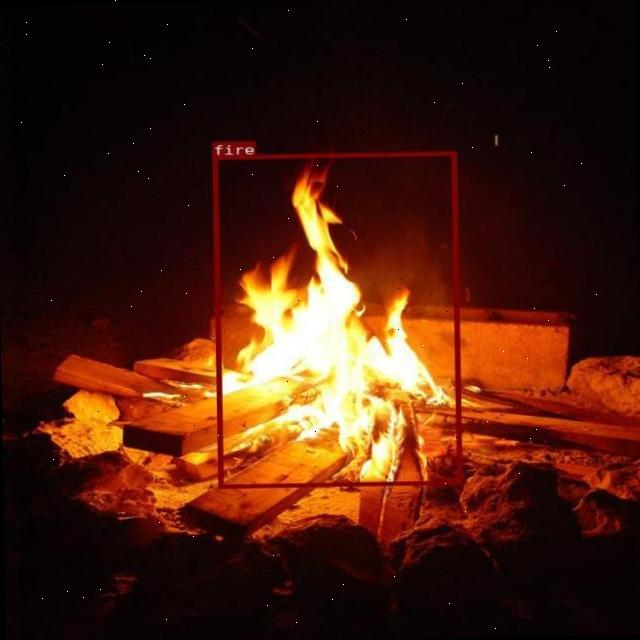fire: (212, 150, 461, 488)
